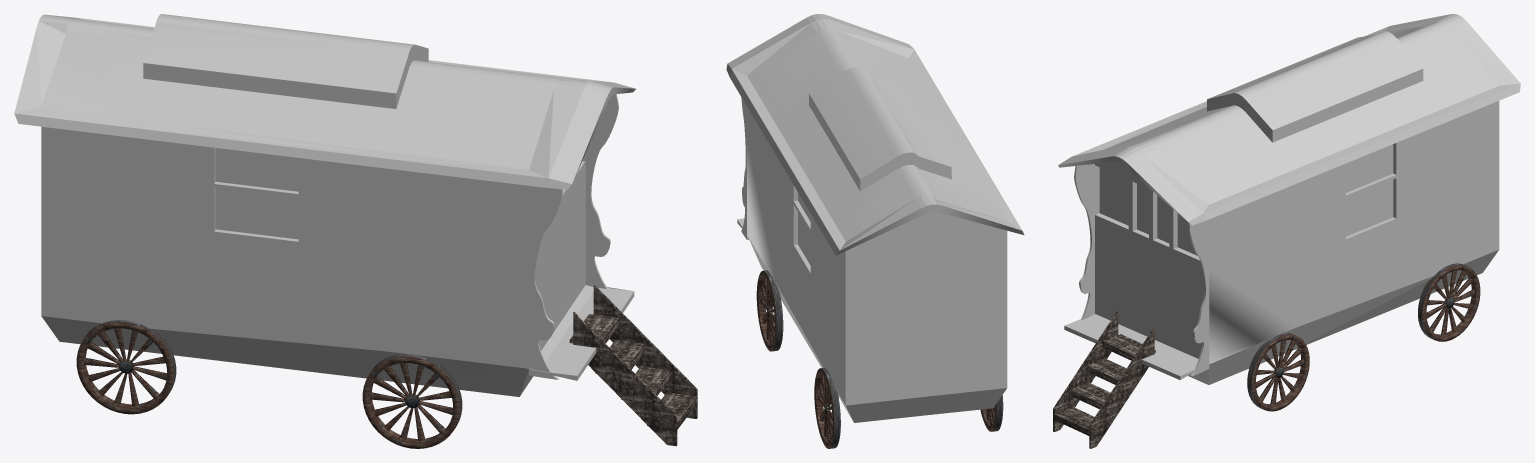
File: Caravan03-Sealed.FBX
The picture shows the model from 3 angles, left to right: view 1: azimuth 30°, elevation 25°; view 2: azimuth 150°, elevation 25°; view 3: azimuth 270°, elevation 25°; orthographic projection. The views are drawn at different scales.
Parts seen in each view (by area): view 1: 2 (×2), Tube005; view 2: 2, Tube004, Tube005; view 3: 2 (×2), Tube004.
Boxes of the visible parts, x1,y1,x2,y2 form: 2 (×2): (14, 14, 697, 446); Tube005: (76, 320, 462, 448); 2: (726, 14, 1024, 422); Tube004: (756, 270, 840, 448); Tube005: (980, 395, 1003, 431); 2 (×2): (1053, 14, 1520, 448); Tube004: (1247, 263, 1480, 411).
Size of the model in its own units: 123 by 83.6 by 125.
